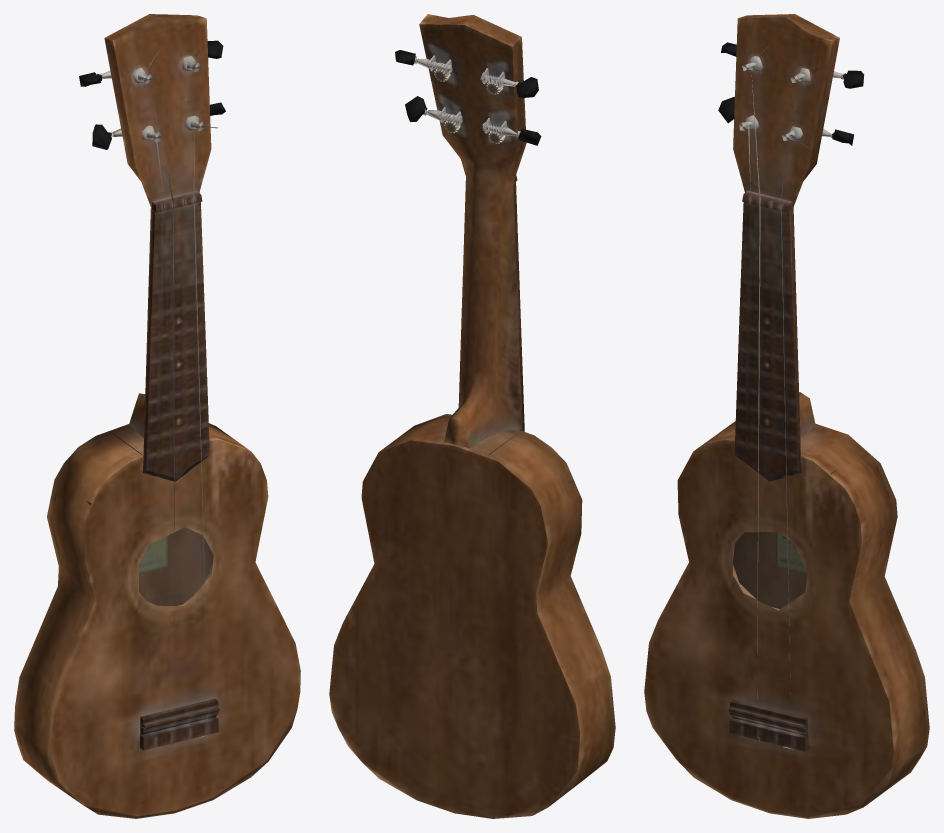
File: guitar.glb
3 renders of one model, left to right at view 1: azimuth 30°, elevation 25°; view 2: azimuth 150°, elevation 25°; view 3: azimuth 330°, elevation 25°, orthographic.
Visible parts, largest first — view 1: Ukulele_01; view 2: Ukulele_01; view 3: Ukulele_01.
Boxes of the visible parts, x1=… form: Ukulele_01: x1=14, y1=14, x2=300, y2=818; Ukulele_01: x1=329, y1=14, x2=615, y2=818; Ukulele_01: x1=644, y1=14, x2=929, y2=818.
Size of the model in its own units: 0.1776 by 0.527 by 0.0503.
1 material, 1 textured.
